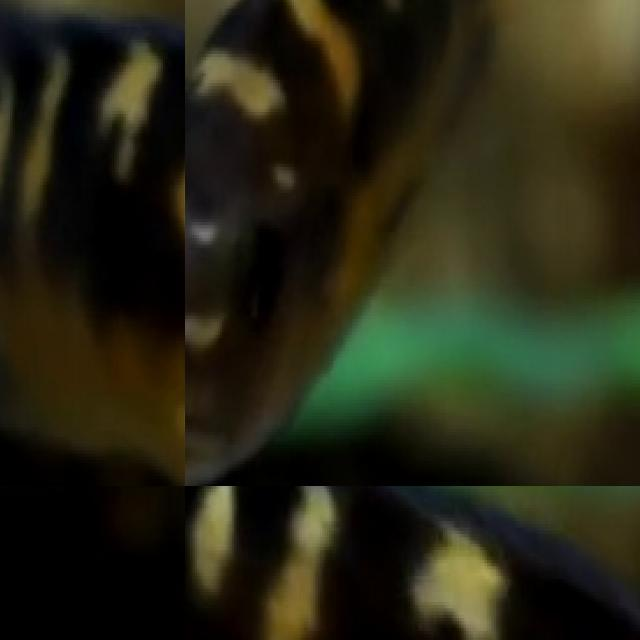fish: (0, 0, 185, 486)
